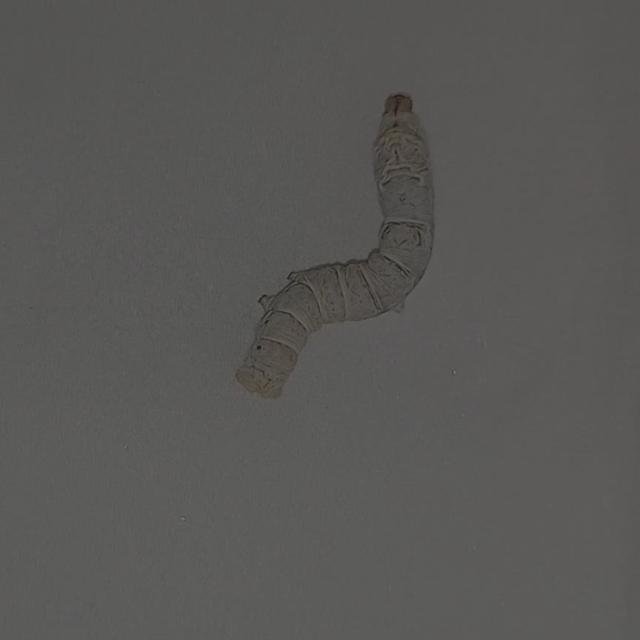Healthy: (225, 61, 462, 412)
